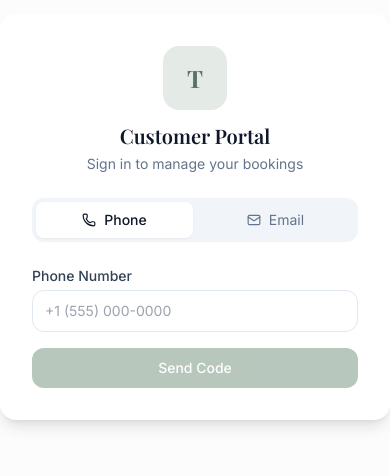
Test: PortalLoginPage › shows error message on failed OTP request
Type "+0000000000" into the field with test id "phone-input" at (195, 311), box [32,290,358,332]
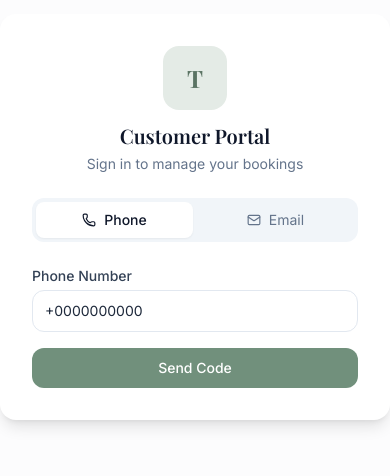
Click the button with test id "send-otp-btn" at (195, 368), box [32,348,358,388]
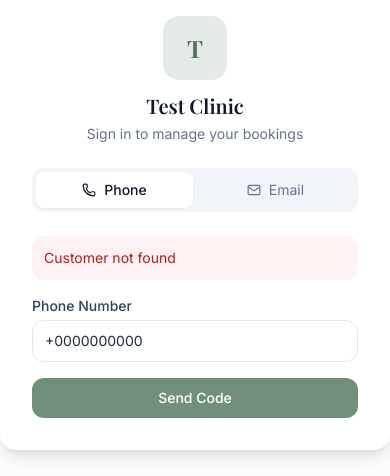
Expected: the text "Customer not found" is shown, [32,236,358,280]
